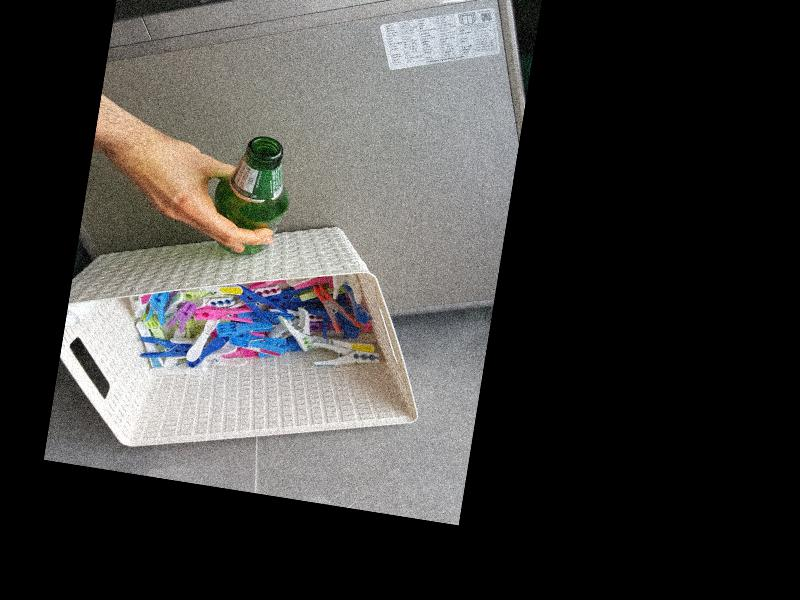Beer: (206, 130, 298, 260)
